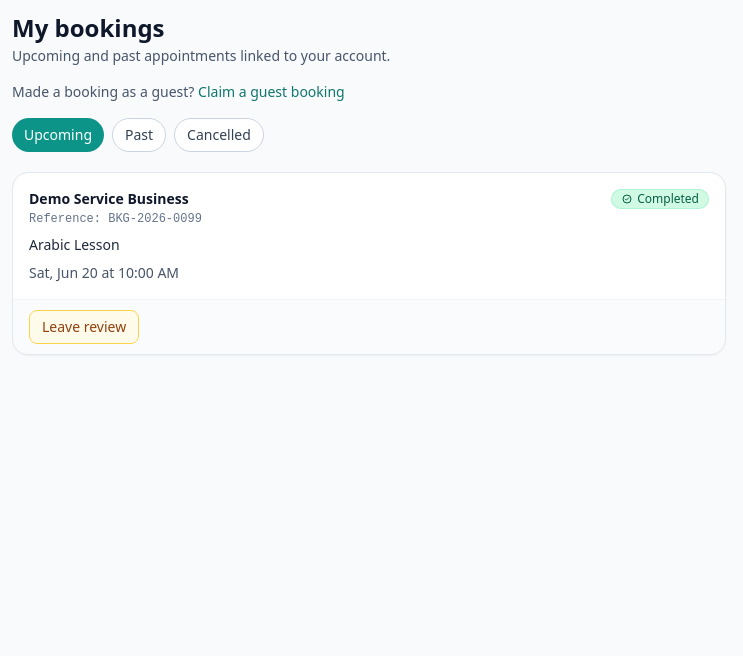
Test: client review UI › failed booking review submit shows error
Click the button with test id "leave-review-button". click: (84, 327)
box: [29,310,139,344]
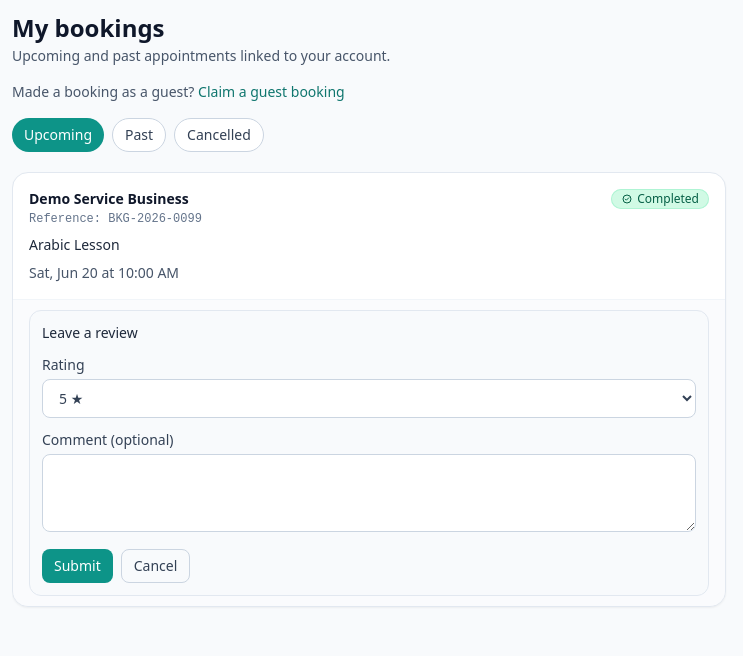
Click the button with test id "review-submit-button". click: (77, 566)
box: [42,549,113,583]
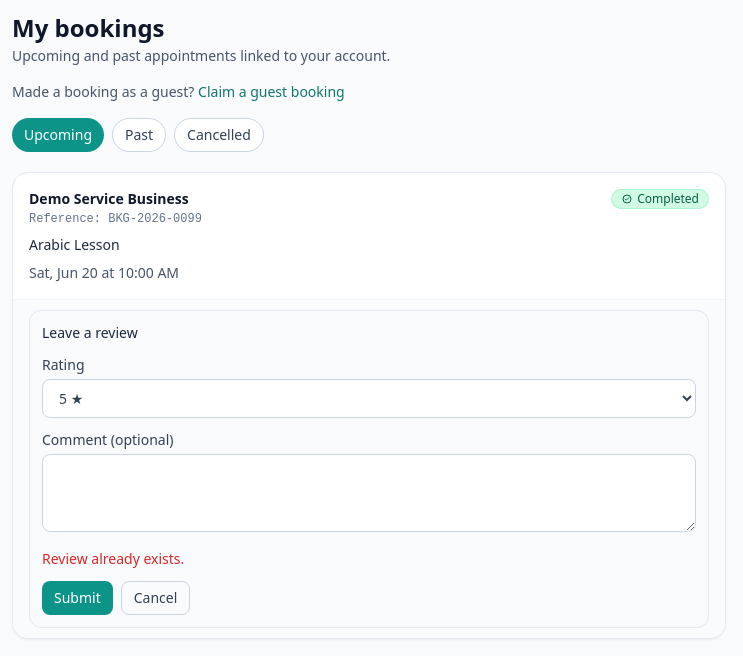
Check: the message "Review already exists." is shown, box [42,549,184,568]
